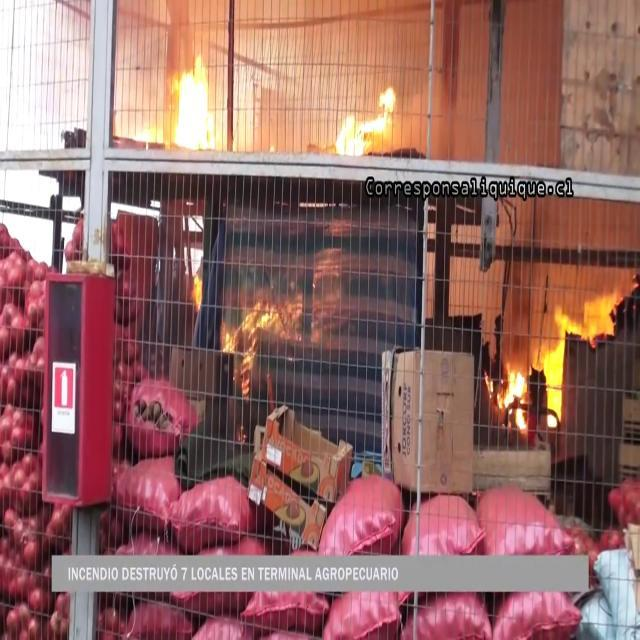Fire: (165, 44, 220, 156), (330, 81, 402, 161), (222, 295, 276, 397), (558, 278, 624, 346)
